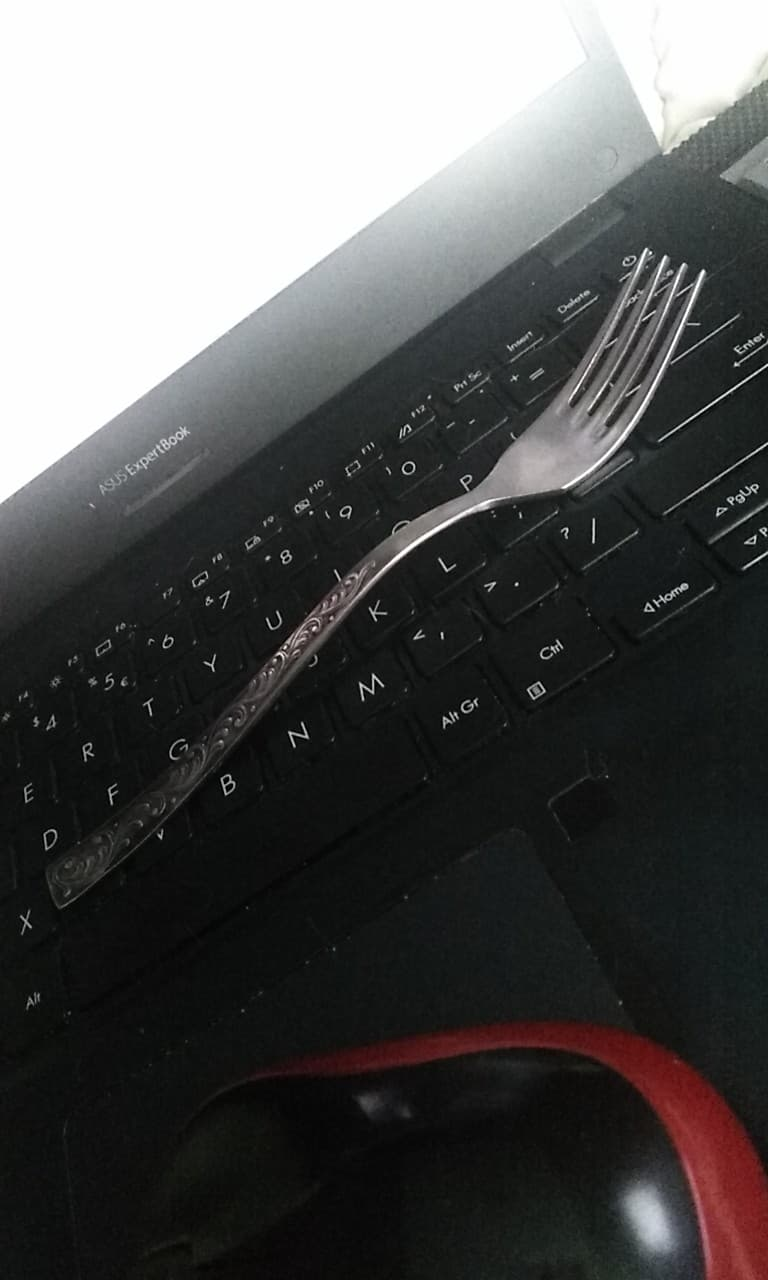Widelec: (468, 238, 709, 522)
